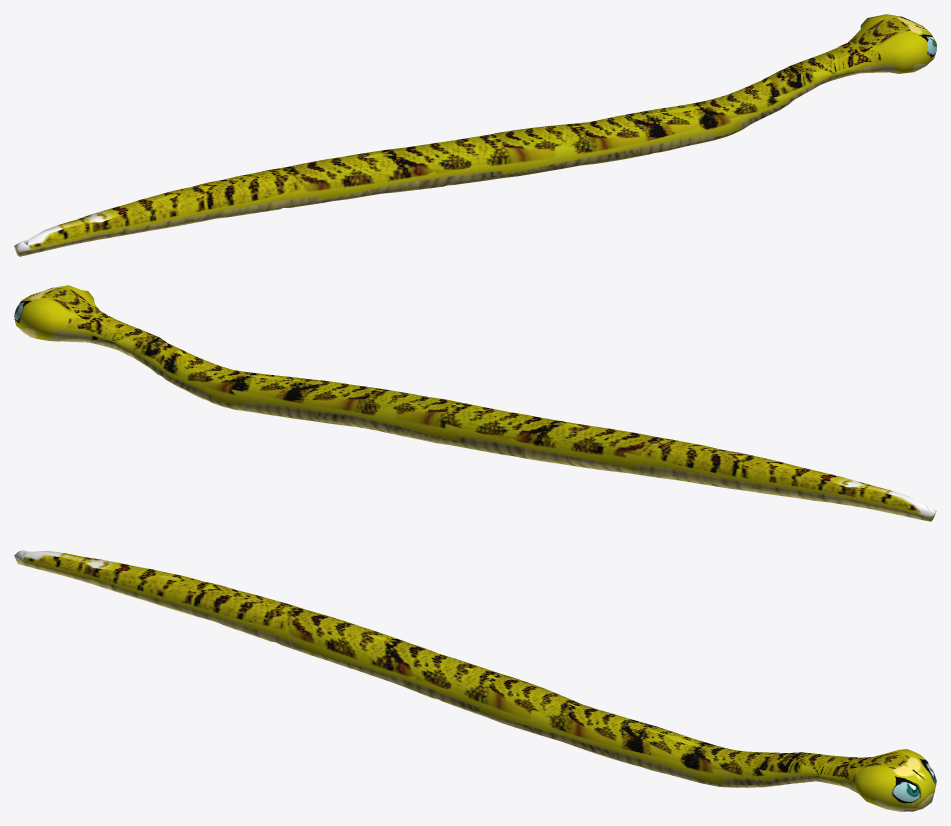
Rendered from snake_aug_1.obj.
3 renders of one model, top to bottom at view 1: azimuth 30°, elevation 25°; view 2: azimuth 150°, elevation 25°; view 3: azimuth 330°, elevation 25°, orthographic.
Bounding box in the file's own units: 99.88 × 7.64 × 8.05.
1 material, 1 textured.
